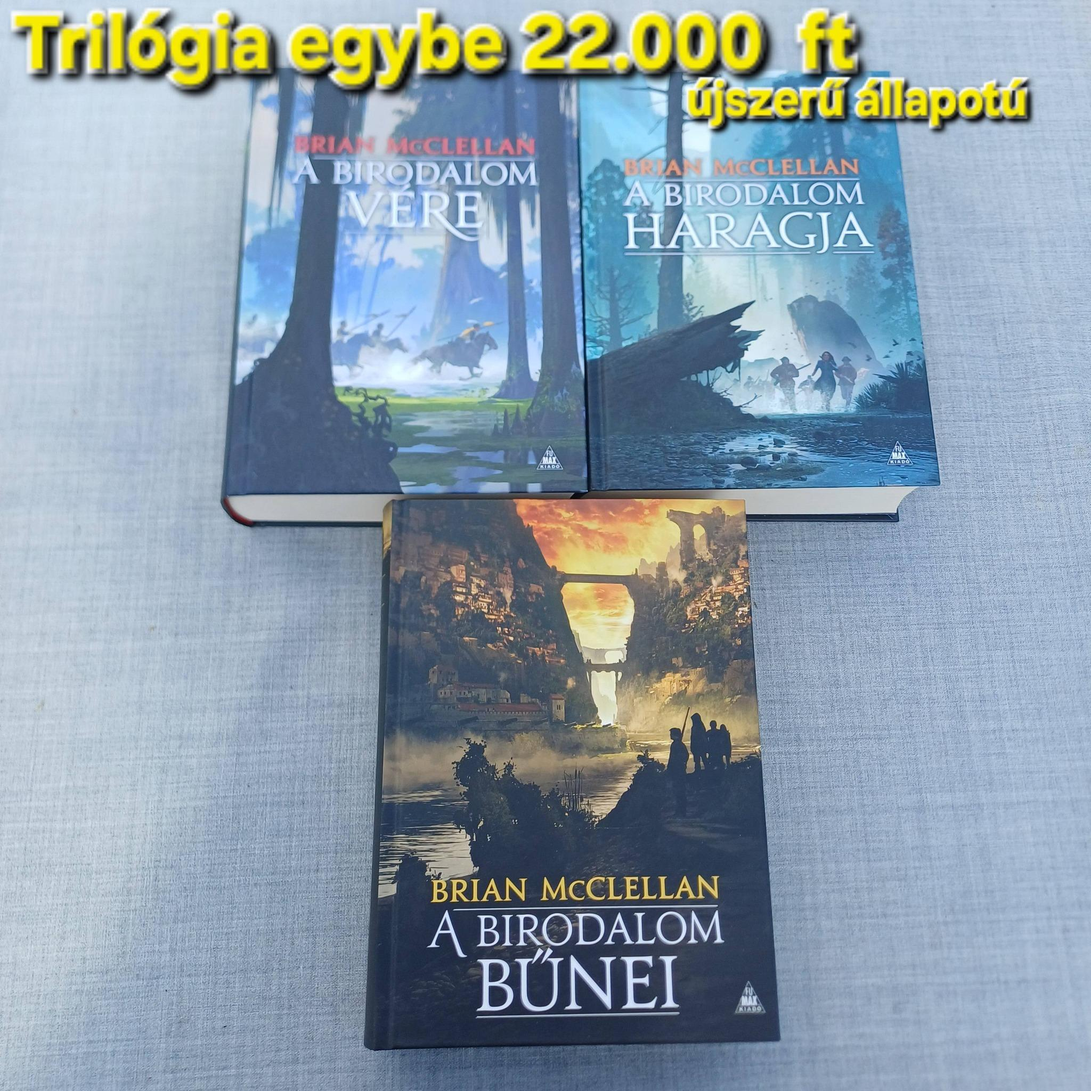comic: (363, 494, 778, 1048), (577, 65, 938, 497), (222, 70, 585, 496)
